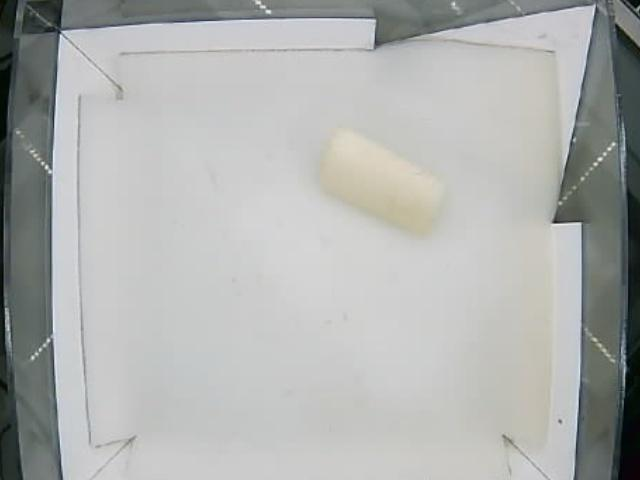Mooli: (323, 130, 449, 238)
